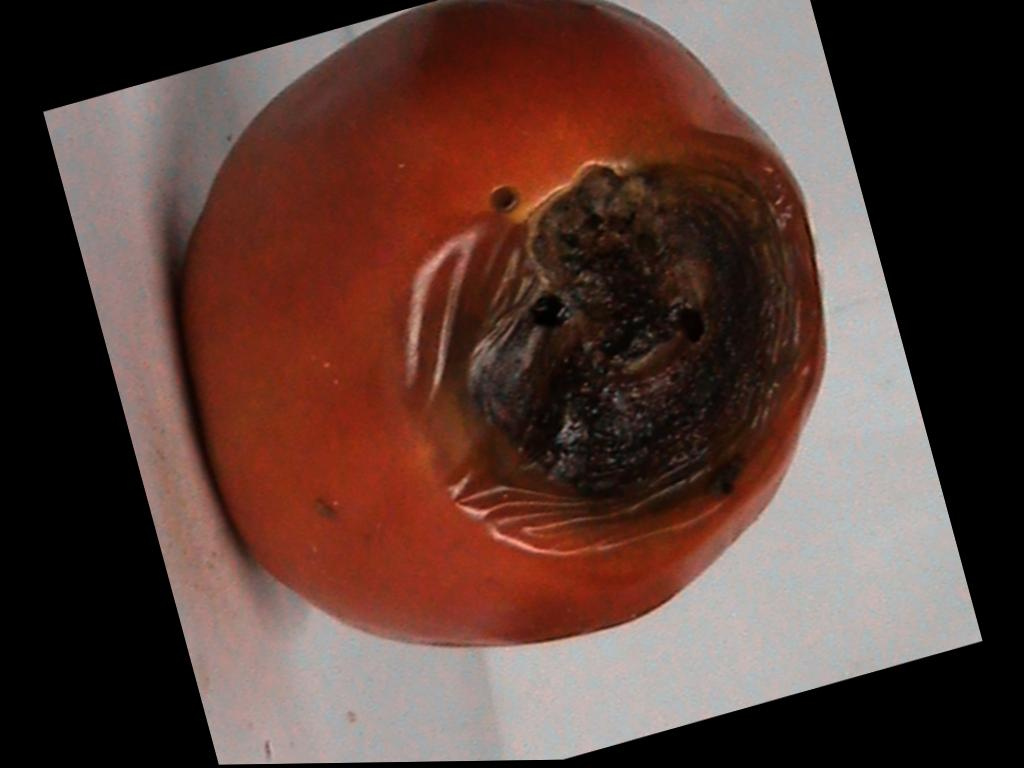rot_mold_decay: (467, 166, 793, 501)
tomato: (181, 0, 824, 645)
